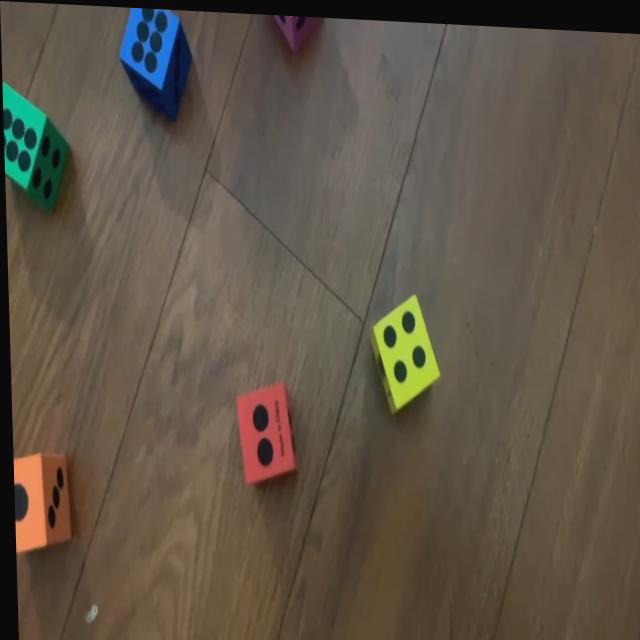blue_block: (117, 5, 191, 117)
red_block: (231, 376, 297, 483)
